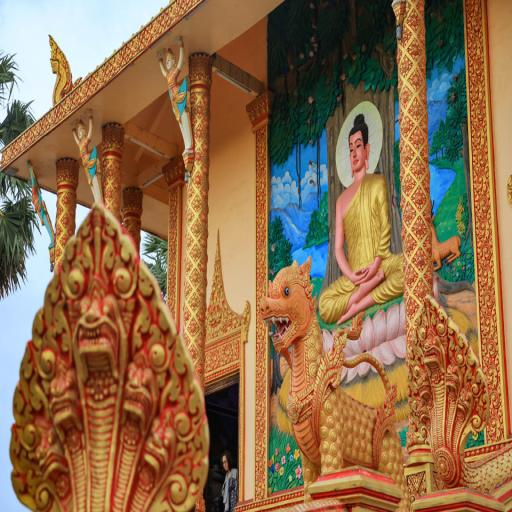ran: (1, 195, 215, 512), (397, 281, 511, 512), (39, 25, 79, 102)
than: (312, 108, 423, 336), (151, 33, 199, 178), (65, 106, 109, 216), (21, 158, 58, 248)
